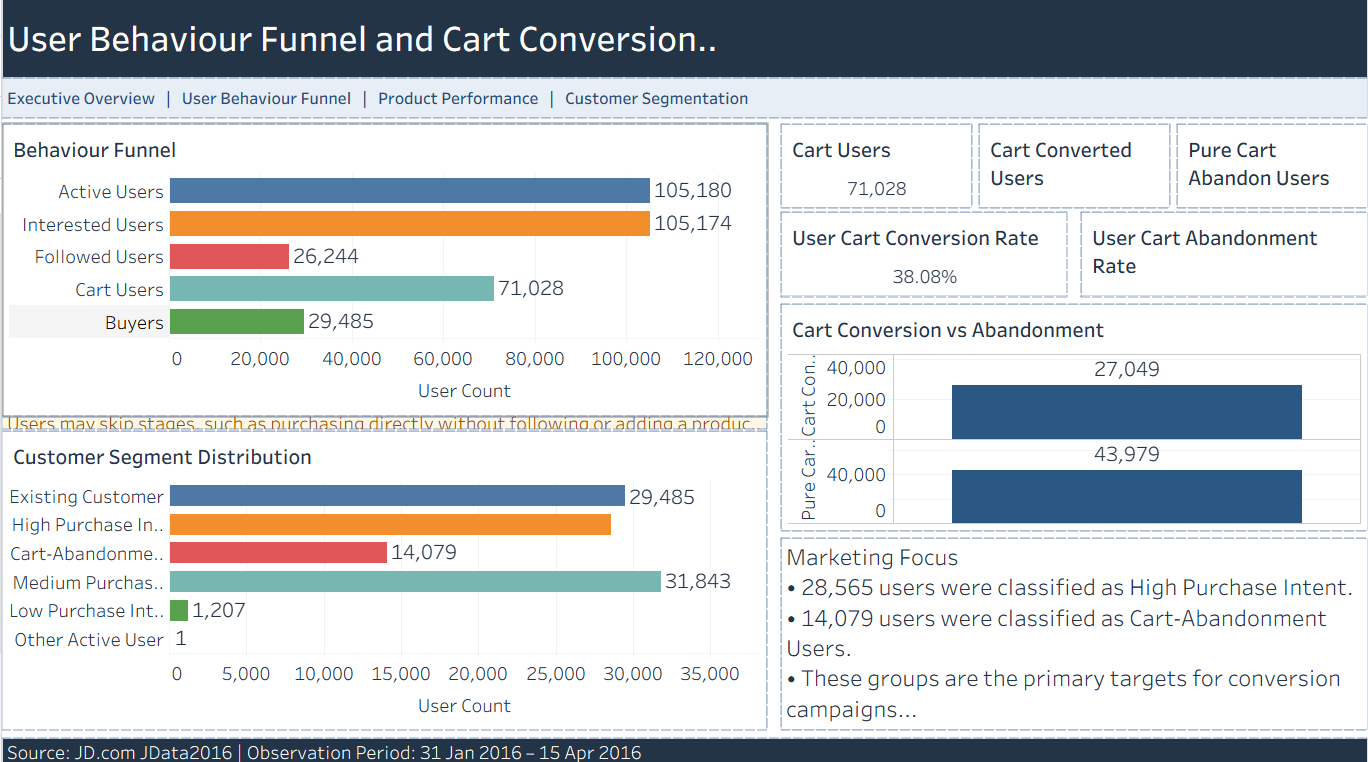

This screenshot's page, from the dashboard's own definition file:
{"tool":"tableau","page":{"name":"User Behaviour Funnel","canvas":[1366,768],"ordinal":3},"visuals":[{"type":"text","box":[0,0,1366,80.6]},{"type":"text","box":[0,80.6,1366,39.9]},{"type":"worksheet","title":"Behaviour Funnel","mark":"Bar","rows":["stage_name"],"cols":["user_count"],"box":[0,126.7,765,291.8]},{"type":"worksheet","title":"Cart Users KPI","mark":"Automatic","box":[778.6,126.7,191.2,84.5]},{"type":"worksheet","title":"Cart Converted Users KPI","mark":"Automatic","box":[976.7,126.7,191.2,84.5]},{"type":"worksheet","title":"Pure Cart Abandon Users KPI","mark":"Automatic","box":[1174.8,126.7,191.2,84.5]},{"type":"worksheet","title":"User Cart Conversion Rate KPI","mark":"Automatic","box":[778.6,215,286.9,84.5]},{"type":"worksheet","title":"User Cart Abandonment Rate KPI","mark":"Automatic","box":[1079.1,215,286.9,84.5]},{"type":"worksheet","title":"Cart Conversion vs Abandonment","mark":"Bar","rows":["cart_converted_users","pure_cart_abandon_users"],"box":[778.6,307.2,587.4,226.6]},{"type":"text","box":[0,418.6,765,13.8]},{"type":"worksheet","title":"Customer Segment Distribution","mark":"Bar","rows":["customer_segment"],"cols":["user_count"],"box":[0,433.9,765,299.5]},{"type":"text","box":[778.6,541.4,587.4,192]},{"type":"text","box":[0,741.1,1366,26.9]}]}

Visuals, with their boxes in screenshot pixels (x1, y1, x2, y2), scaled from the page's 1366x768 canvas onto the 1368x762 screenshot:
text: rect(0, 0, 1367, 80)
text: rect(0, 80, 1367, 120)
"Behaviour Funnel" worksheet (Bar marks): rect(0, 126, 766, 415)
"Cart Users KPI" worksheet: rect(780, 126, 971, 210)
"Cart Converted Users KPI" worksheet: rect(978, 126, 1170, 210)
"Pure Cart Abandon Users KPI" worksheet: rect(1177, 126, 1367, 210)
"User Cart Conversion Rate KPI" worksheet: rect(780, 213, 1067, 297)
"User Cart Abandonment Rate KPI" worksheet: rect(1081, 213, 1367, 297)
"Cart Conversion vs Abandonment" worksheet (Bar marks): rect(780, 305, 1367, 530)
text: rect(0, 415, 766, 429)
"Customer Segment Distribution" worksheet (Bar marks): rect(0, 431, 766, 728)
text: rect(780, 537, 1367, 728)
text: rect(0, 735, 1367, 761)
